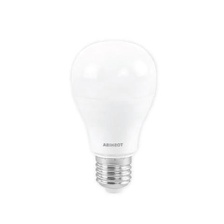light_bulb: (66, 32, 163, 194)
